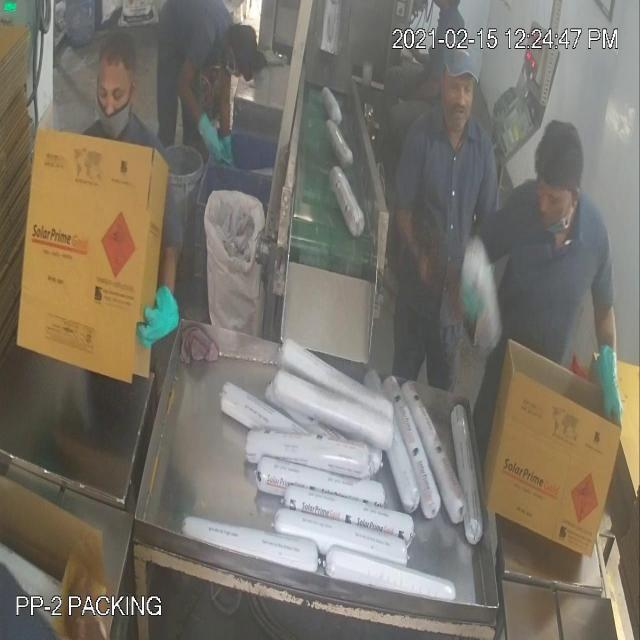Gloves: (37, 59, 612, 386)
